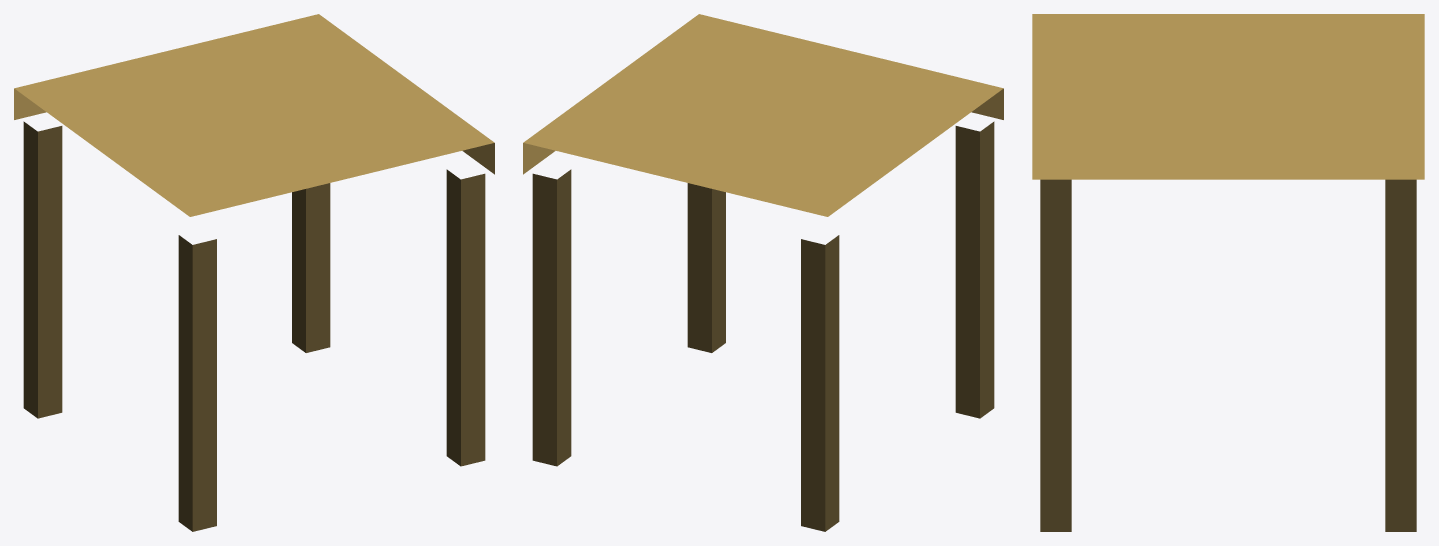
File: Table-gold.glb
3 views of the same model, side by side, from view 1: azimuth 30°, elevation 25°; view 2: azimuth 150°, elevation 25°; view 3: azimuth 270°, elevation 25° (orthographic). The views are drawn at different scales.
Parts seen in each view (by area): view 1: Table; view 2: Table; view 3: Table.
Part boxes in pixels (x1,y1,x2,y2): Table: [14, 14, 494, 531]; Table: [523, 14, 1003, 531]; Table: [1032, 14, 1424, 531].
Size of the model in its own units: 1 by 1 by 1.
